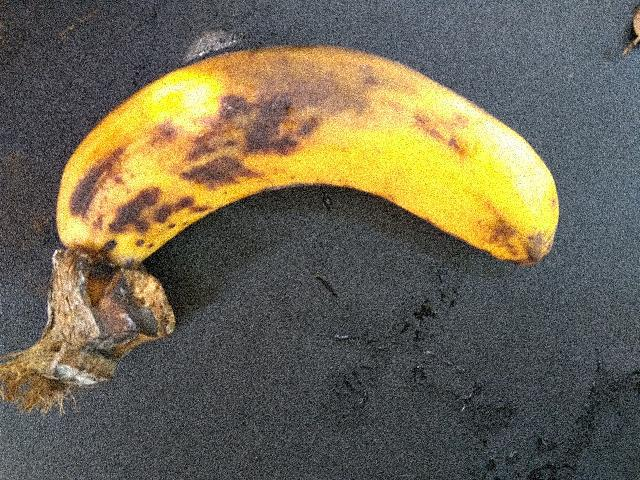overripe: (54, 55, 580, 292)
rotten: (106, 24, 386, 237)
